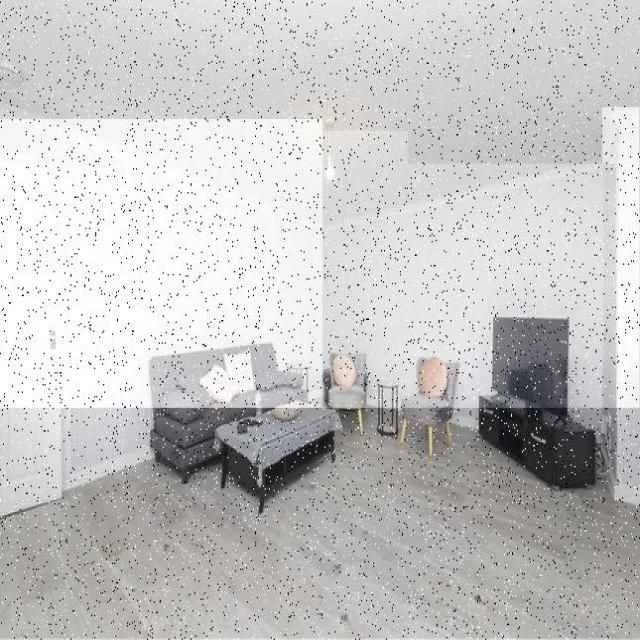Wall: (0, 408, 640, 639), (0, 1, 640, 214), (1, 120, 322, 485), (321, 165, 616, 464), (603, 108, 640, 505), (271, 132, 408, 225)
